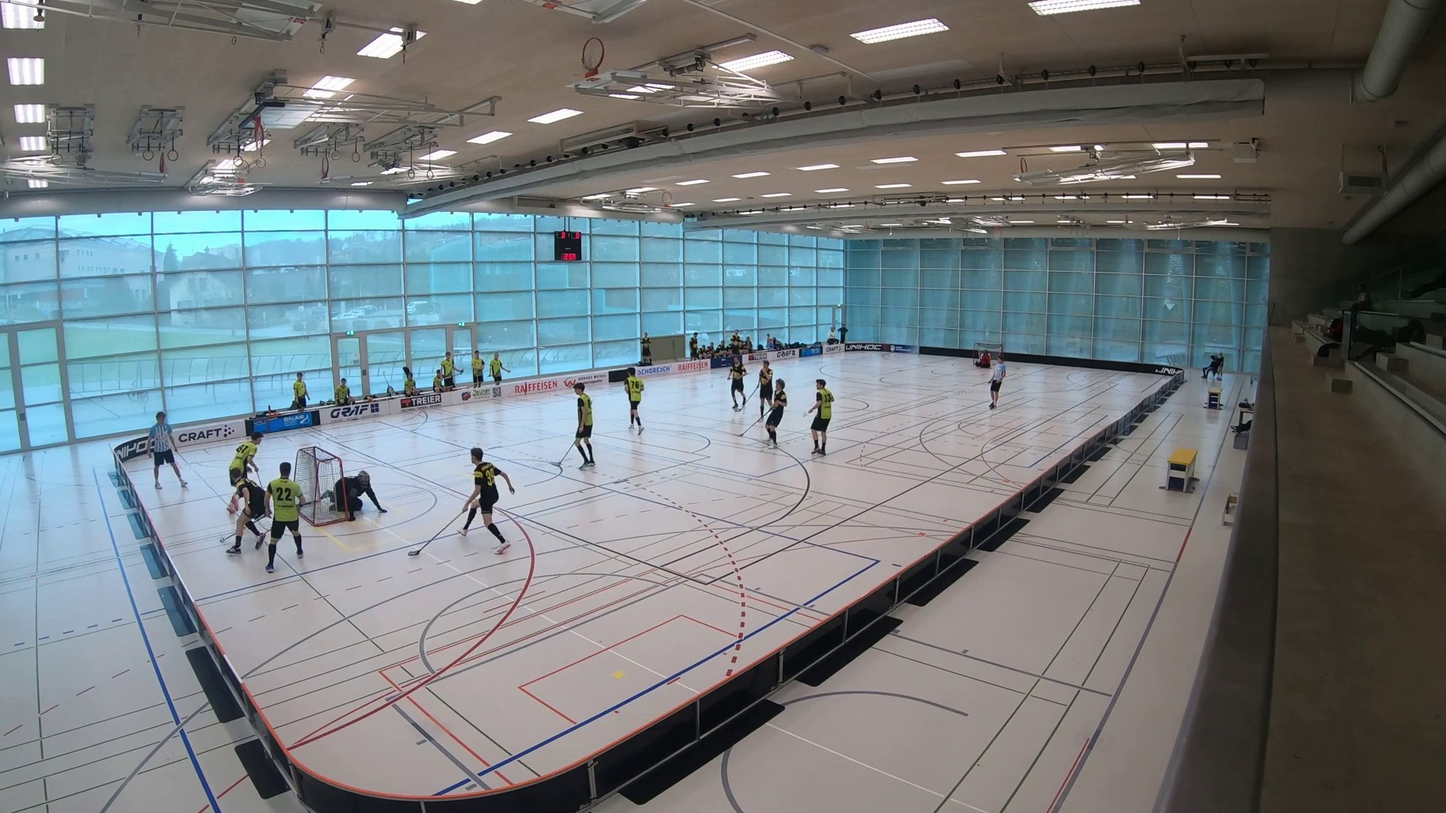Schiri: (143, 406, 190, 489), (986, 351, 1010, 418)
ball: (211, 526, 233, 552)
goalkeeper: (331, 470, 387, 520), (975, 349, 990, 368)
player: (459, 447, 514, 553), (266, 462, 303, 572), (226, 478, 264, 554), (808, 378, 834, 454), (229, 432, 263, 486), (574, 383, 594, 467), (765, 379, 787, 446), (625, 367, 644, 432), (728, 355, 746, 410), (758, 360, 773, 416)
